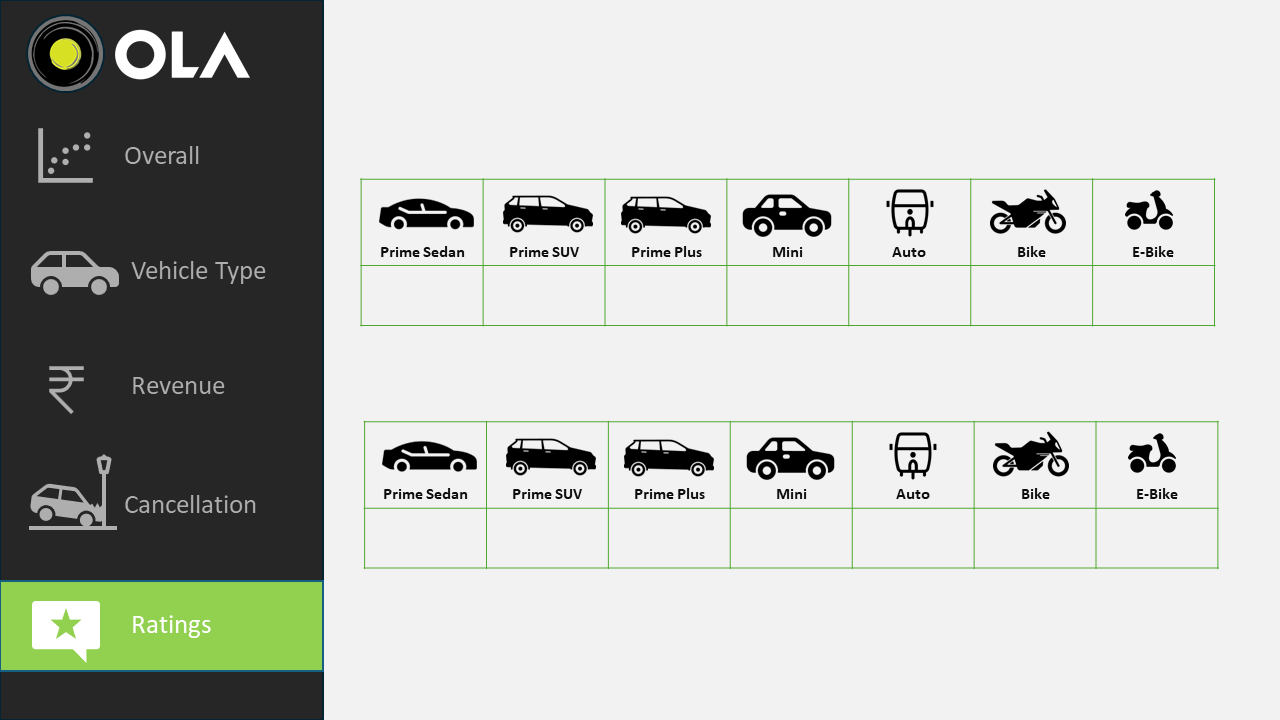

This screenshot's page, from the dashboard's own definition file:
{"tool":"powerbi","page":{"name":"Ratings","canvas":[1280,720],"ordinal":4},"visuals":[{"type":"actionButton","box":[0,103.8,325,92.5],"z":0},{"type":"card","fields":{"Values":["Avg(Bookings - July.Driver_Ratings)"]},"box":[361.2,265,120,57.5],"z":1},{"type":"card","fields":{"Values":["Avg(Bookings - July.Driver_Ratings)"]},"box":[490,265,120,57.5],"z":2},{"type":"card","fields":{"Values":["Avg(Bookings - July.Driver_Ratings)"]},"box":[610,265,120,57.5],"z":3},{"type":"card","fields":{"Values":["Avg(Bookings - July.Driver_Ratings)"]},"box":[730,265,120,57.5],"z":4},{"type":"card","fields":{"Values":["Avg(Bookings - July.Driver_Ratings)"]},"box":[850,265,120,57.5],"z":5},{"type":"card","fields":{"Values":["Avg(Bookings - July.Driver_Ratings)"]},"box":[970,265,120,57.5],"z":6},{"type":"card","fields":{"Values":["Avg(Bookings - July.Driver_Ratings)"]},"box":[1090,265,120,57.5],"z":7},{"type":"textbox","box":[361.2,138.8,145,38.8],"z":8},{"type":"textbox","box":[361.2,381.2,188.8,38.8],"z":9},{"type":"card","fields":{"Values":["Avg(Bookings - July.Customer_Rating)"]},"box":[361.2,506.2,120,57.5],"z":10},{"type":"card","fields":{"Values":["Avg(Bookings - July.Customer_Rating)"]},"box":[490,506.2,120,57.5],"z":11},{"type":"card","fields":{"Values":["Avg(Bookings - July.Customer_Rating)"]},"box":[610,506.2,120,57.5],"z":12},{"type":"card","fields":{"Values":["Avg(Bookings - July.Customer_Rating)"]},"box":[730,506.2,120,57.5],"z":13},{"type":"card","fields":{"Values":["Avg(Bookings - July.Customer_Rating)"]},"box":[850,506.2,120,57.5],"z":14},{"type":"card","fields":{"Values":["Avg(Bookings - July.Customer_Rating)"]},"box":[978.8,506.2,120,57.5],"z":15},{"type":"card","fields":{"Values":["Avg(Bookings - July.Customer_Rating)"]},"box":[1098.8,506.2,120,57.5],"z":16}]}

Visuals, with their boxes on the page's 1280x720 design canvas (x1, y1, x2, y2). These are canvas units, not pixel positions in the 1280x720 screenshot, which may show the page scaled, cropped or inside an application window:
actionButton: 0, 104, 325, 196
card - Avg(Bookings - July.Driver_Ratings): 361, 265, 481, 322
card - Avg(Bookings - July.Driver_Ratings): 490, 265, 610, 322
card - Avg(Bookings - July.Driver_Ratings): 610, 265, 730, 322
card - Avg(Bookings - July.Driver_Ratings): 730, 265, 850, 322
card - Avg(Bookings - July.Driver_Ratings): 850, 265, 970, 322
card - Avg(Bookings - July.Driver_Ratings): 970, 265, 1090, 322
card - Avg(Bookings - July.Driver_Ratings): 1090, 265, 1210, 322
textbox: 361, 139, 506, 178
textbox: 361, 381, 550, 420
card - Avg(Bookings - July.Customer_Rating): 361, 506, 481, 564
card - Avg(Bookings - July.Customer_Rating): 490, 506, 610, 564
card - Avg(Bookings - July.Customer_Rating): 610, 506, 730, 564
card - Avg(Bookings - July.Customer_Rating): 730, 506, 850, 564
card - Avg(Bookings - July.Customer_Rating): 850, 506, 970, 564
card - Avg(Bookings - July.Customer_Rating): 979, 506, 1099, 564
card - Avg(Bookings - July.Customer_Rating): 1099, 506, 1219, 564
